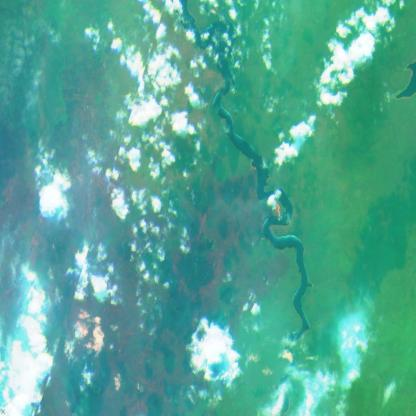fire: (264, 196, 286, 224)
